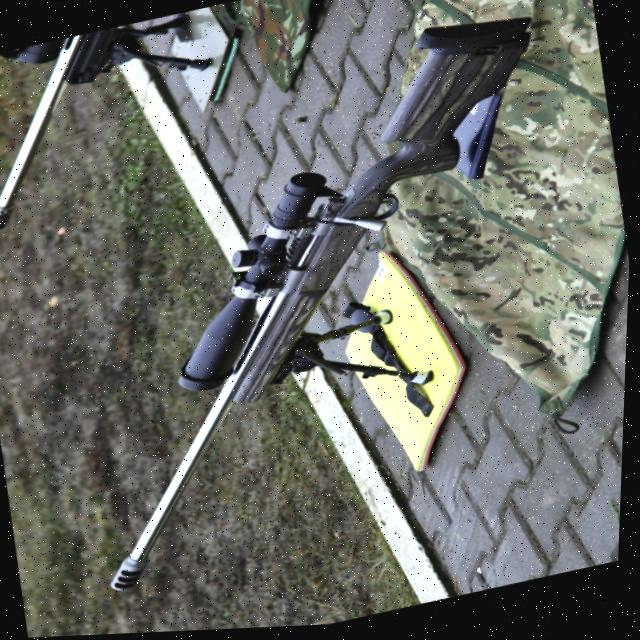firearm: (22, 3, 620, 600), (0, 7, 238, 234)
